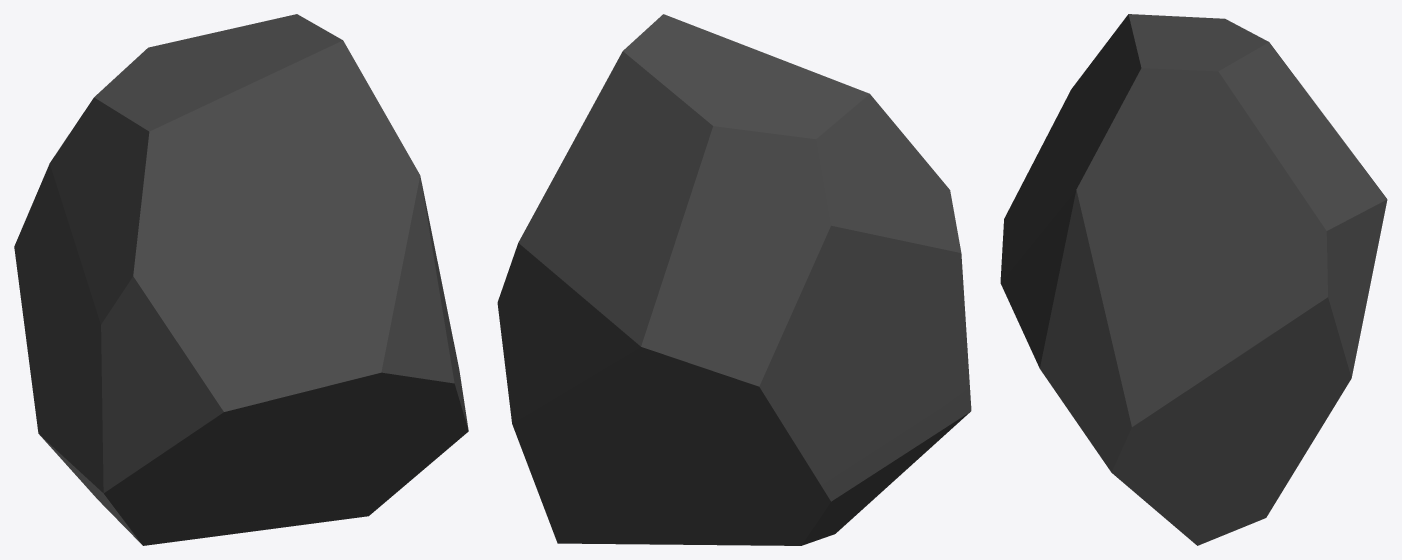
File: Rock_08.glb
The picture shows the model from 3 angles, left to right: view 1: azimuth 30°, elevation 25°; view 2: azimuth 150°, elevation 25°; view 3: azimuth 270°, elevation 25°; orthographic projection. The views are drawn at different scales.
Visible parts, largest first — view 1: Rock_08; view 2: Rock_08; view 3: Rock_08.
Part boxes in pixels (x1,y1,x2,y2): Rock_08: (14,14,468,545); Rock_08: (497,14,971,545); Rock_08: (1000,14,1387,545).
Size of what is drawn, in the model's own units: 0.5858 by 0.7437 by 0.5757.
1 material, 1 textured.
